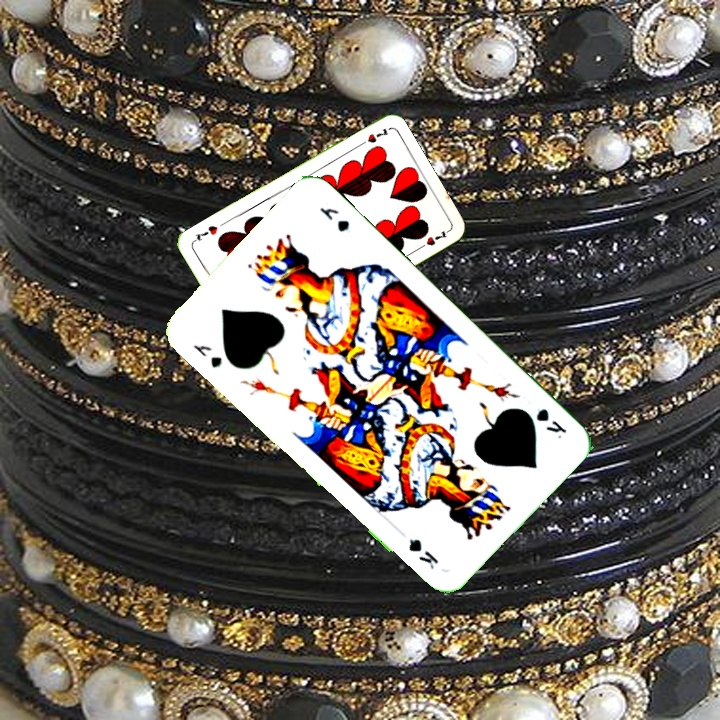GK: (532, 403, 570, 442), (189, 340, 225, 371)
H7: (354, 124, 391, 150)
